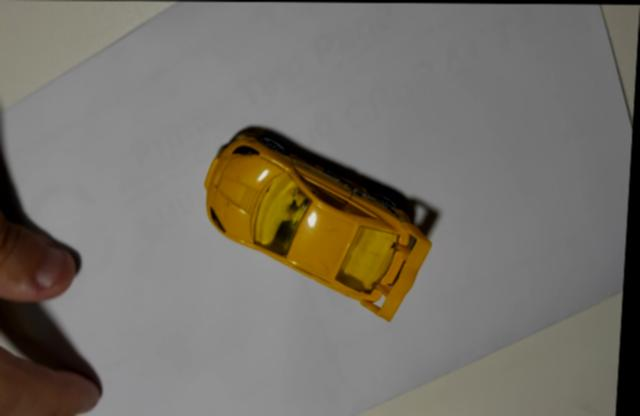07_RHLTURBO: (206, 124, 435, 320)
